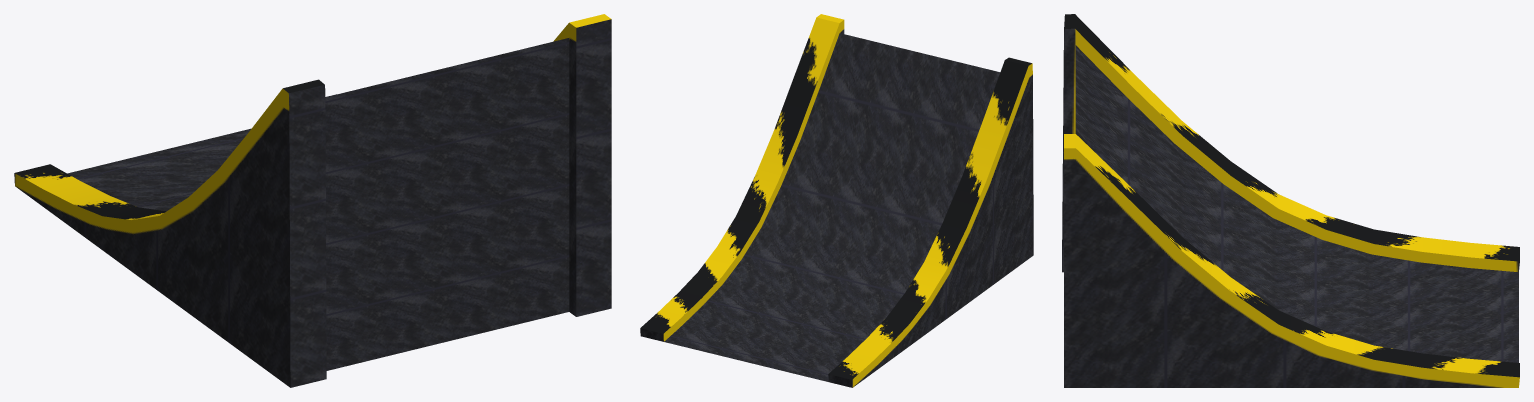
File: ramp_v02.fbx
3 views of the same model, side by side, from view 1: azimuth 30°, elevation 25°; view 2: azimuth 150°, elevation 25°; view 3: azimuth 270°, elevation 25° (orthographic). The views are drawn at different scales.
Visible parts, largest first — view 1: pCube1; view 2: pCube1; view 3: pCube1.
Part boxes in pixels (x1,y1,x2,y2): pCube1: (14, 14, 611, 387); pCube1: (640, 14, 1033, 387); pCube1: (1062, 14, 1519, 387).
Size of the model in its own units: 926 by 807 by 1375.
